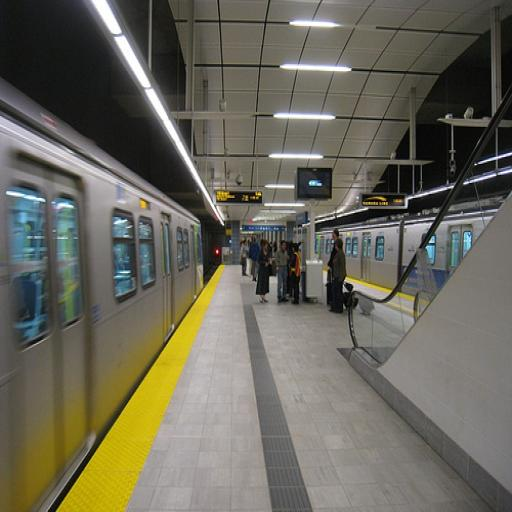platform_edge: (64, 251, 242, 512)
